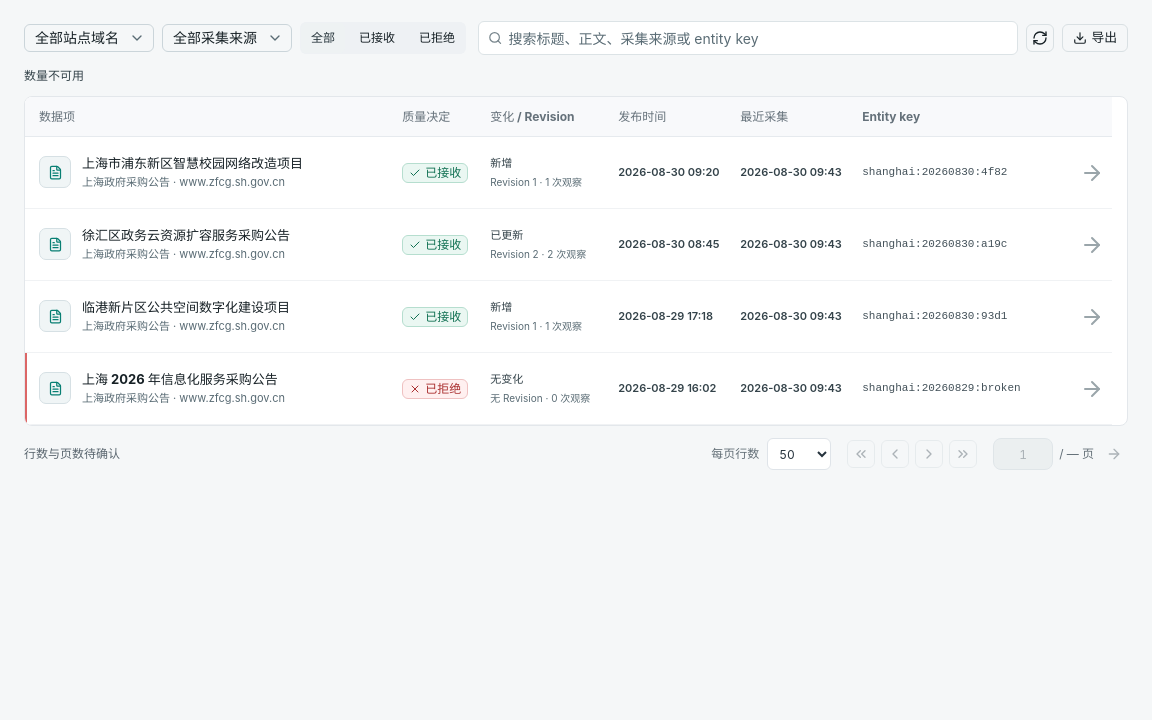
Test: ItemsPage operational list › maps EXPORT_TOO_LARGE failures to a scoped filter hint
The width and height of the screenshot is (1152, 720).
Expected: the element named "Item 列表" is shown, [24,96,1128,426]
Click the button with aria-label "导出当前筛选的数据" at (1095,38), box [1062,24,1128,52]
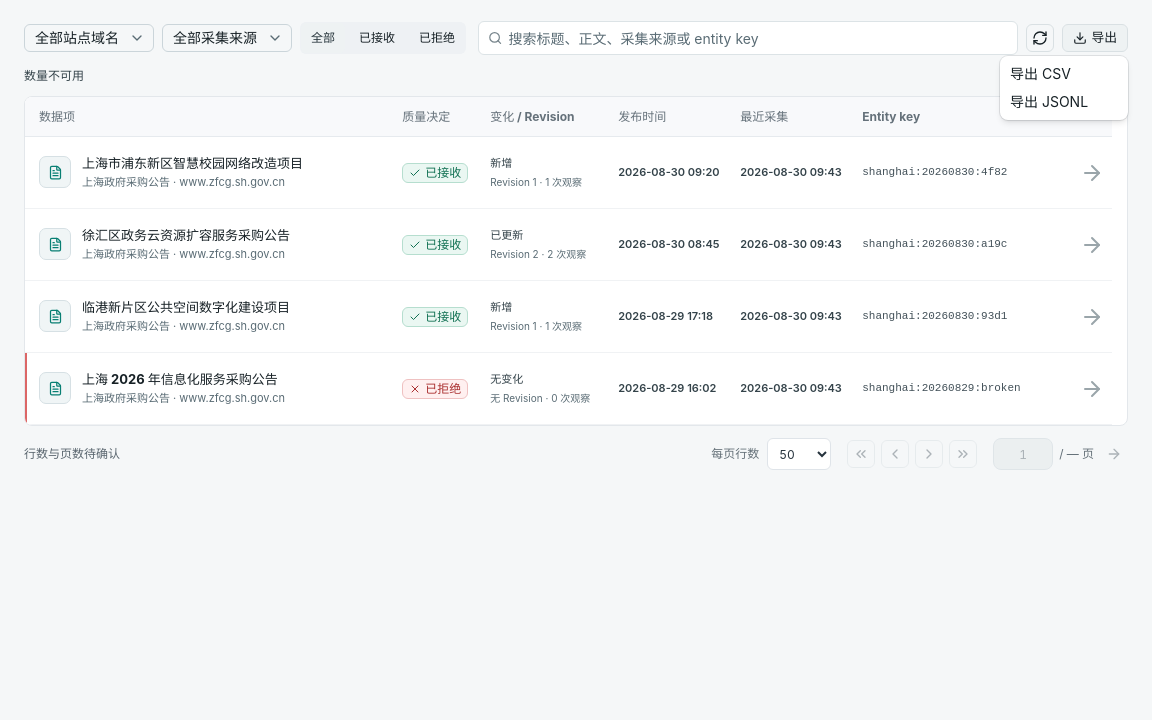
Click the menu item "导出 JSONL" at (1049,102), box [1010,93,1088,110]
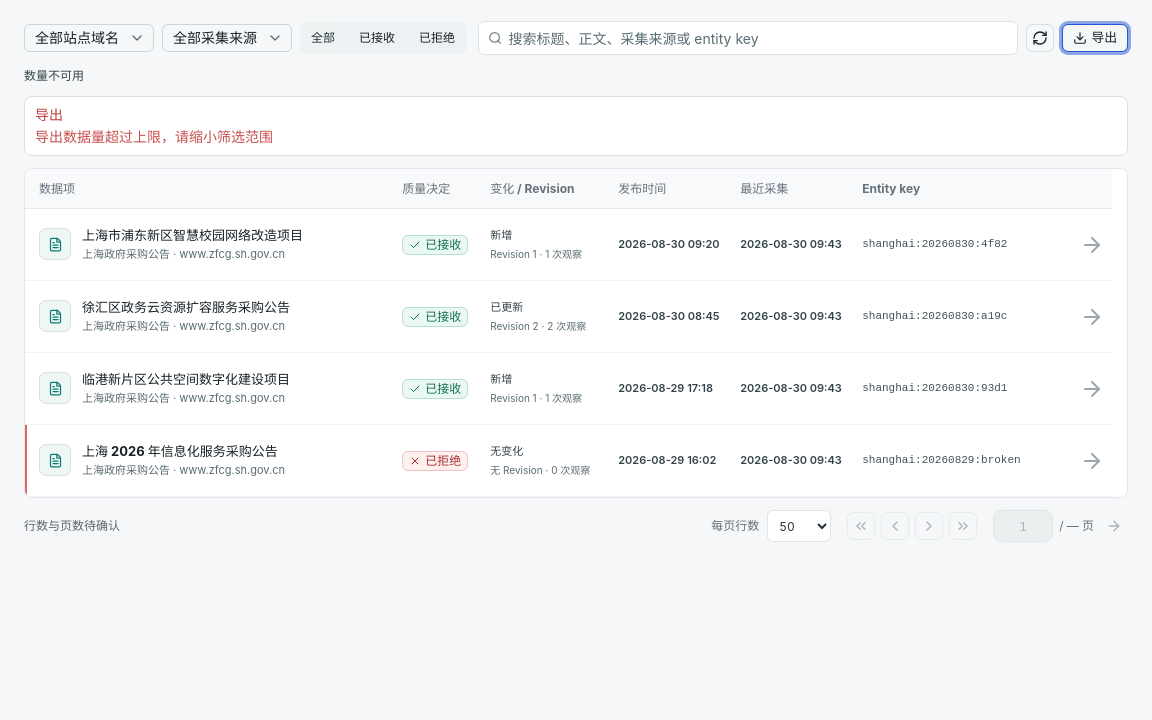
Result: the text "导出数据量超过上限，请缩小筛选范围" is shown at [35,128,273,145]
